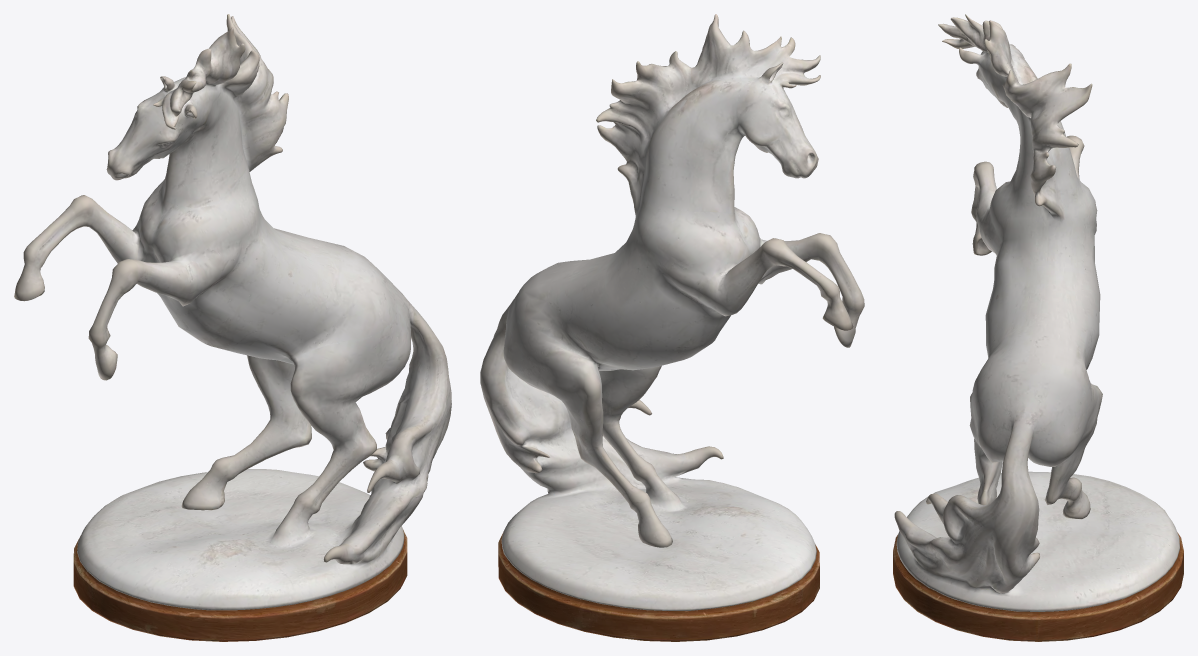
Rendered from horse_statue.glb.
3 views of the same model, side by side, from view 1: azimuth 30°, elevation 25°; view 2: azimuth 150°, elevation 25°; view 3: azimuth 270°, elevation 25° (orthographic). The views are drawn at different scales.
Parts seen in each view (by area): view 1: 0; view 2: 0; view 3: 0.
Part boxes in pixels (x1,y1,x2,y2): 0: (14,14,451,641); 0: (480,14,864,641); 0: (893,14,1183,641).
Size of the model in its own units: 0.163 by 0.22 by 0.1078.
1 material, 1 textured.
